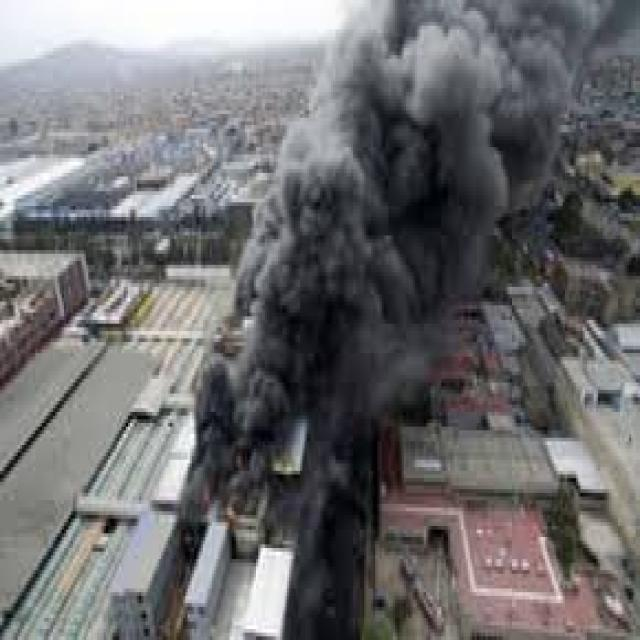Smoke: (179, 0, 640, 523)
